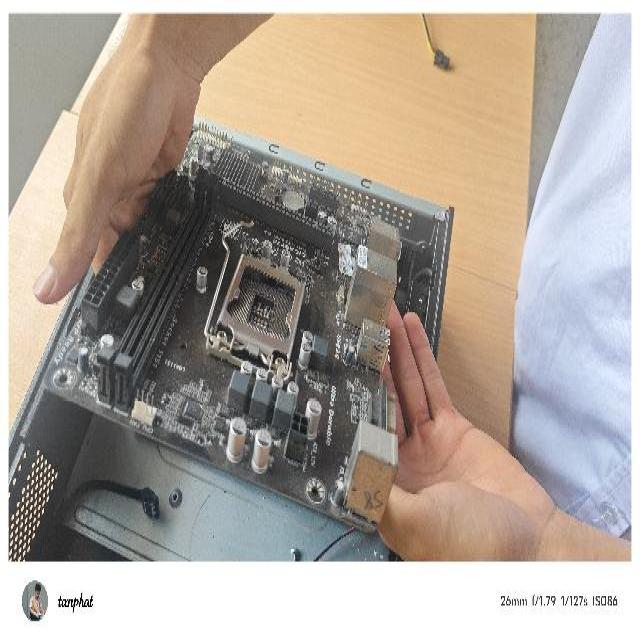Mainboard: (41, 140, 402, 483)
